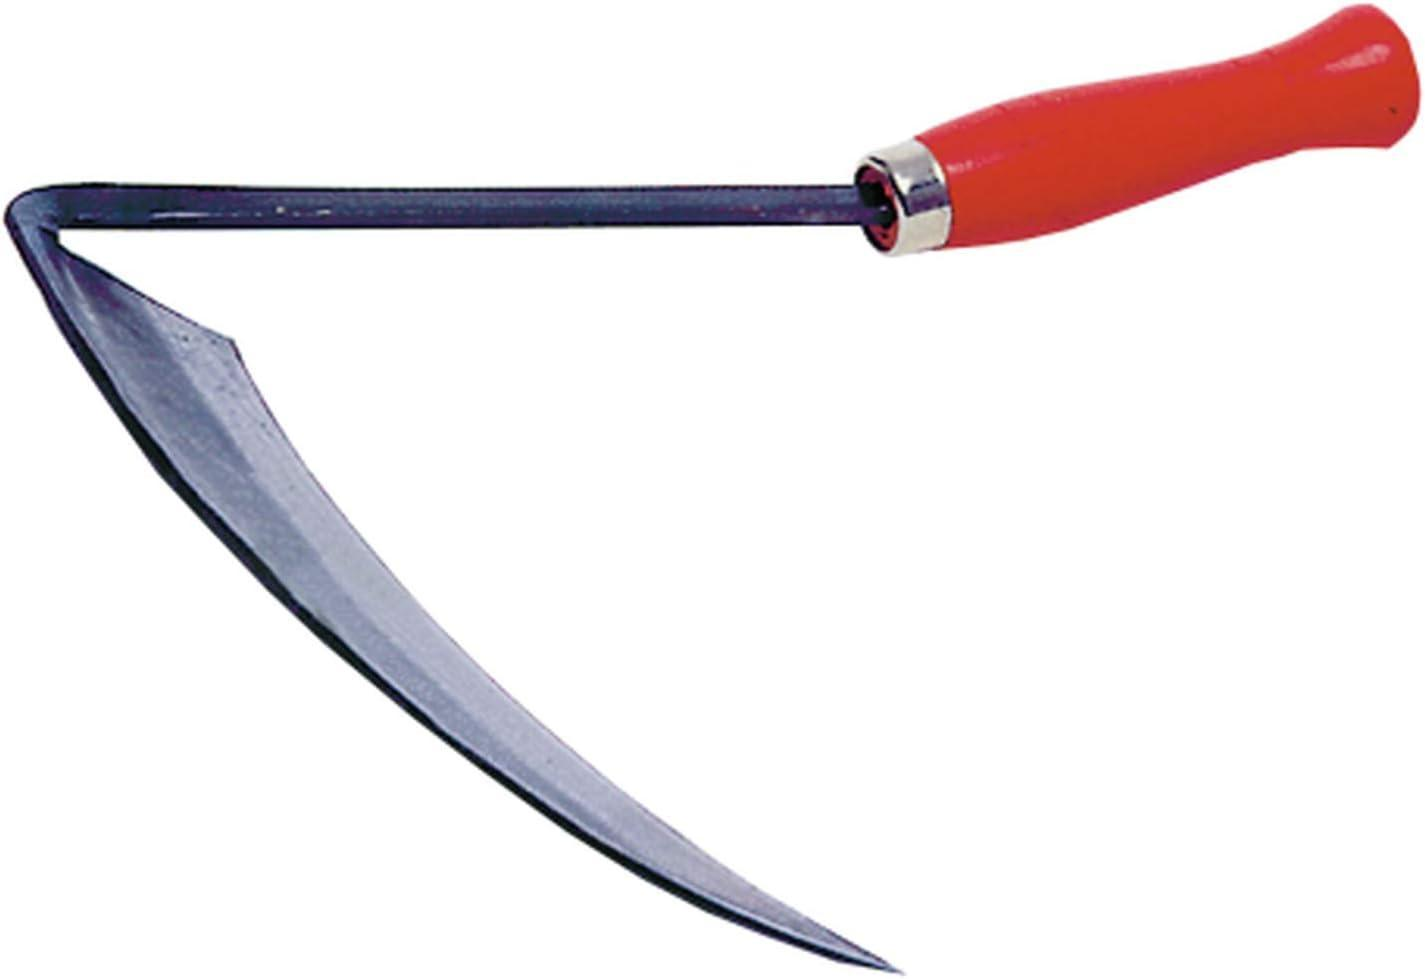foice: (6, 6, 1419, 973)
